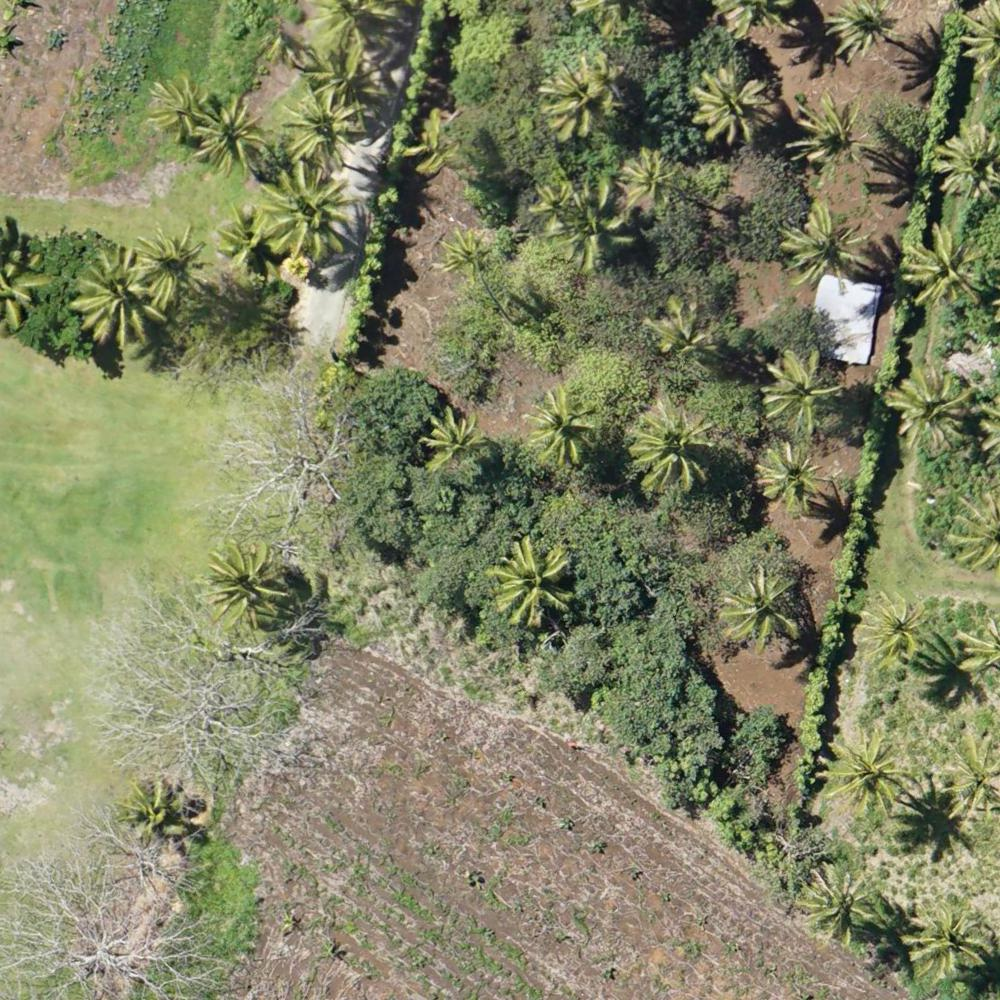Palm: (67, 248, 168, 346), (260, 161, 354, 262), (622, 401, 714, 492), (904, 896, 996, 978), (792, 95, 875, 185), (202, 545, 288, 629), (889, 360, 973, 446), (489, 540, 576, 623), (715, 565, 802, 647), (538, 181, 623, 264), (785, 201, 872, 281), (821, 731, 900, 818), (902, 227, 982, 312), (285, 82, 364, 162), (755, 350, 836, 428), (132, 227, 213, 304), (538, 56, 615, 136), (804, 863, 882, 941), (692, 66, 773, 141), (523, 385, 598, 464), (750, 442, 828, 515), (823, 1, 904, 71), (855, 591, 923, 672), (931, 744, 1000, 820), (196, 98, 268, 167), (143, 74, 215, 139), (938, 123, 1000, 198), (421, 406, 483, 468), (118, 781, 184, 835), (436, 226, 491, 282), (625, 147, 682, 200)
